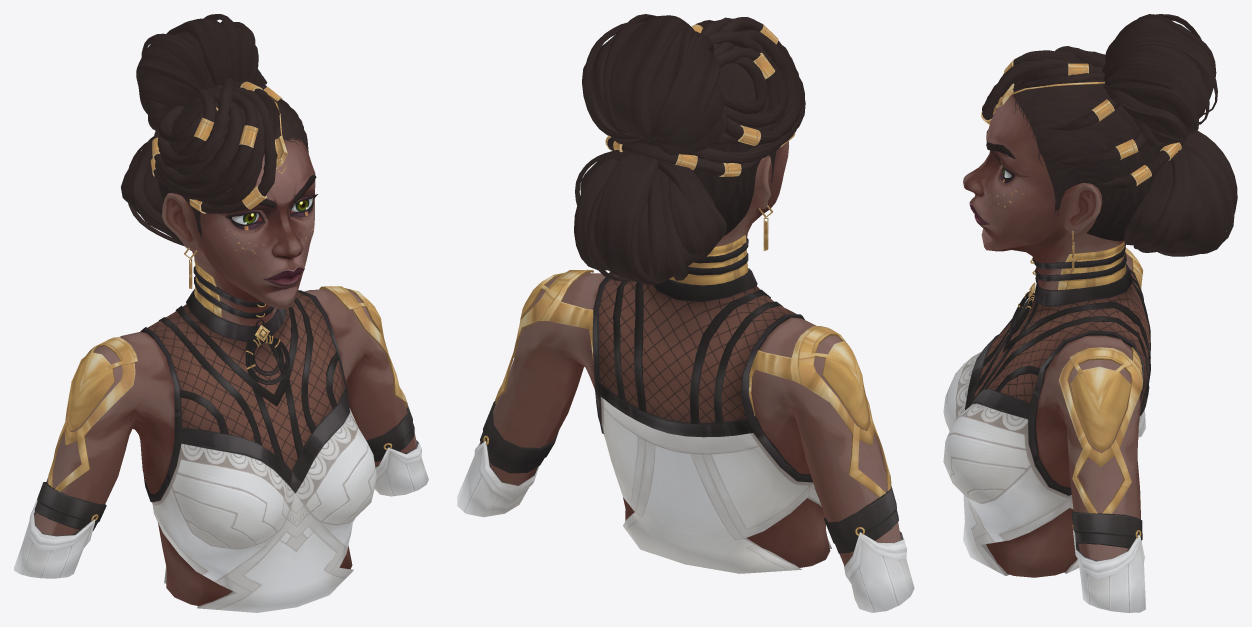
The model's file is mel_arcane.glb.
3 renders of one model, left to right at view 1: azimuth 30°, elevation 25°; view 2: azimuth 150°, elevation 25°; view 3: azimuth 270°, elevation 25°, orthographic. The views are drawn at different scales.
Parts seen in each view (by area): view 1: COSTUME, BODY, HAIR; view 2: COSTUME, HAIR, BODY; view 3: COSTUME, HAIR, BODY.
Boxes of the visible parts, x1,y1,x2,y2 form: COSTUME: (14, 81, 428, 612); BODY: (34, 138, 416, 605); HAIR: (121, 14, 317, 247); COSTUME: (457, 23, 914, 612); HAIR: (574, 14, 805, 284); BODY: (480, 141, 900, 567); COSTUME: (943, 58, 1181, 612); HAIR: (982, 14, 1237, 256); BODY: (963, 95, 1140, 577).
Bounding box in the file's own units: 1.2 × 1.47 × 0.7503.
5 materials, 5 textured.
